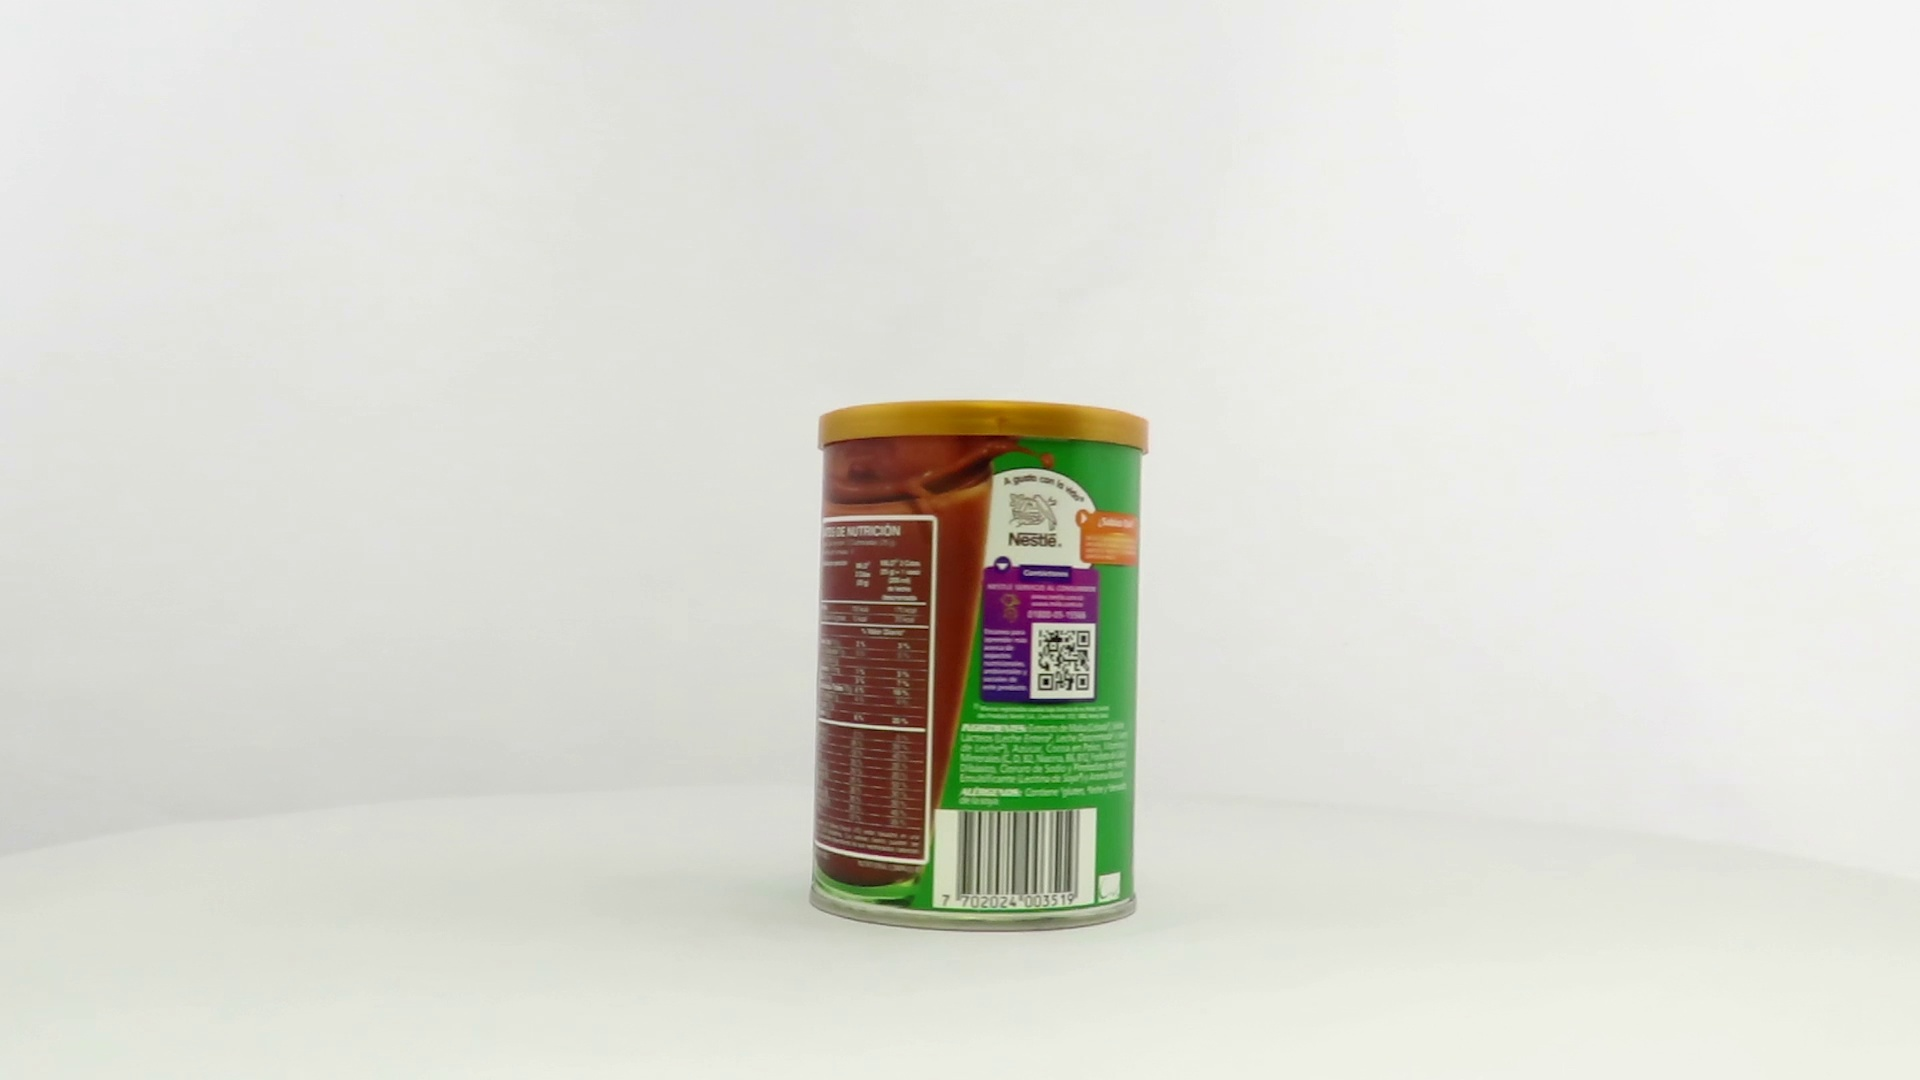COL0170203LAT20000: (804, 396, 1155, 939)
